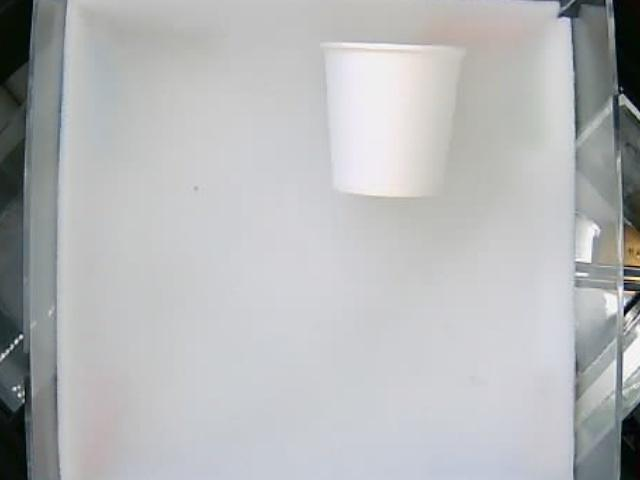Cup: (317, 40, 467, 200)
